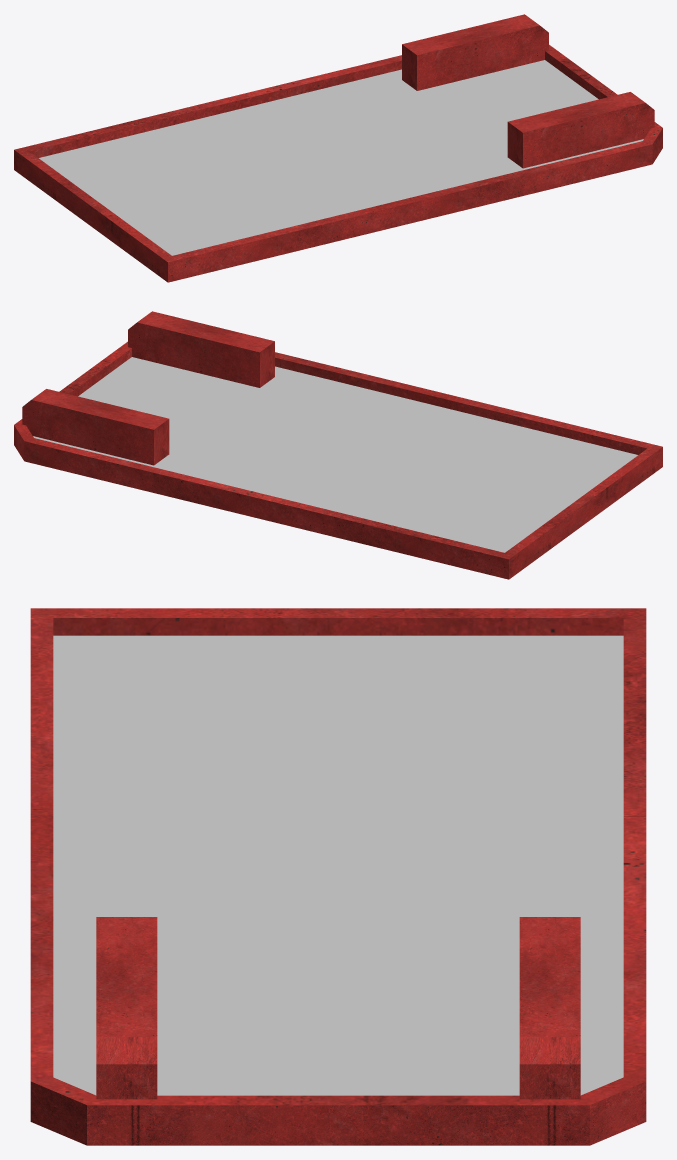
File: Ob_Building1WallTop_RC.fbx
3 views of the same model, one above another, from view 1: azimuth 30°, elevation 25°; view 2: azimuth 150°, elevation 25°; view 3: azimuth 270°, elevation 25° (orthographic). The views are drawn at different scales.
Visible parts, largest first — view 1: Ob_Building1WallTop_RC; view 2: Ob_Building1WallTop_RC; view 3: Ob_Building1WallTop_RC.
Boxes of the visible parts, bbox=[...] form: Ob_Building1WallTop_RC: bbox=[14, 14, 662, 282]; Ob_Building1WallTop_RC: bbox=[14, 311, 662, 579]; Ob_Building1WallTop_RC: bbox=[30, 608, 646, 1145].
Size of the model in its own units: 3161 by 280 by 1656.
